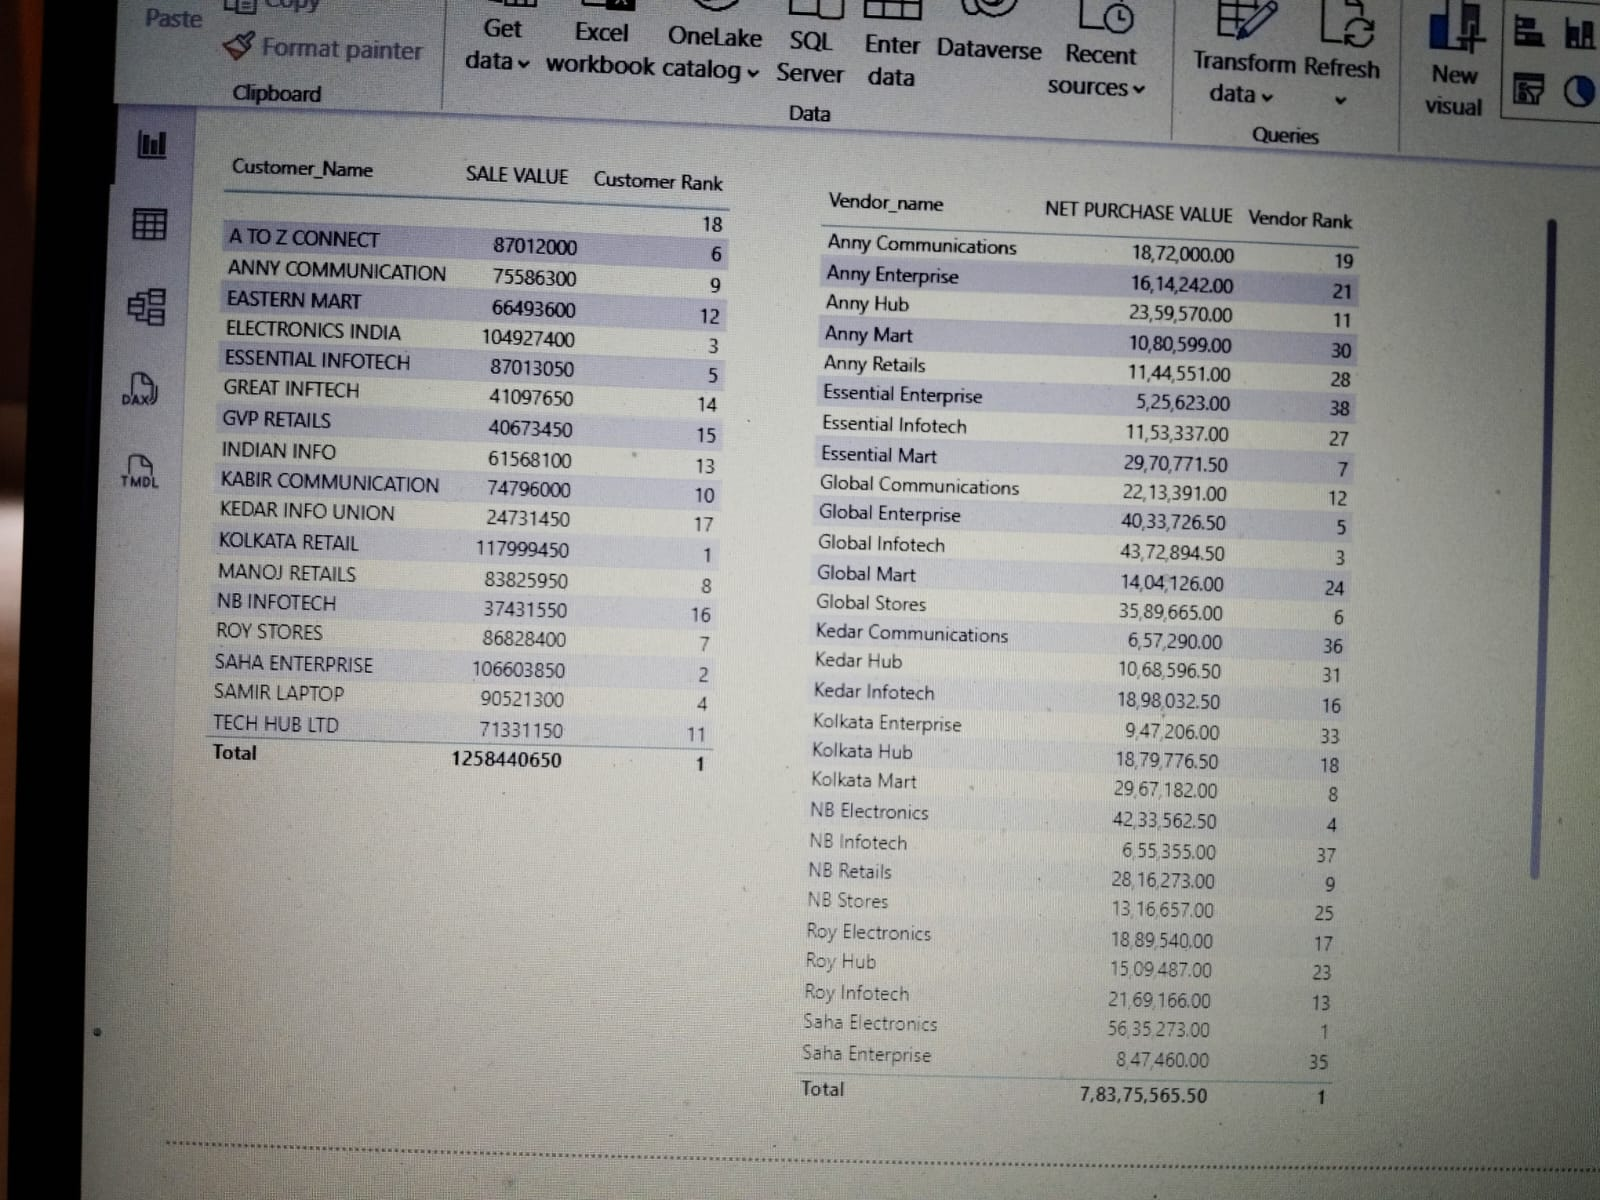

The dashboard page shown, as its layout file describes it:
{"tool":"powerbi","page":{"name":"RANK1","canvas":[1280,720],"ordinal":4},"visuals":[{"type":"tableEx","fields":{"Values":["Customer Master.Customer_Name.1","Sales Register.SALE VALUE","Sales Register.Customer Rank"]},"box":[15.6,25.6,425.2,568.9],"z":0},{"type":"tableEx","fields":{"Values":["Vendor Master.Vendor_name","Purchase Register.NET PURCHASE VALUE","Purchase Register.Vendor Rank"]},"box":[429.5,34.1,540.4,651.4],"z":1}]}

Visuals, with their boxes on the page's 1280x720 design canvas (x1, y1, x2, y2). These are canvas units, not pixel positions in the 1600x1200 screenshot, which may show the page scaled, cropped or inside an application window:
tableEx - Customer Master.Customer_Name.1 x Sales Register.SALE VALUE: 16, 26, 441, 594
tableEx - Vendor Master.Vendor_name x Purchase Register.NET PURCHASE VALUE: 430, 34, 970, 686
